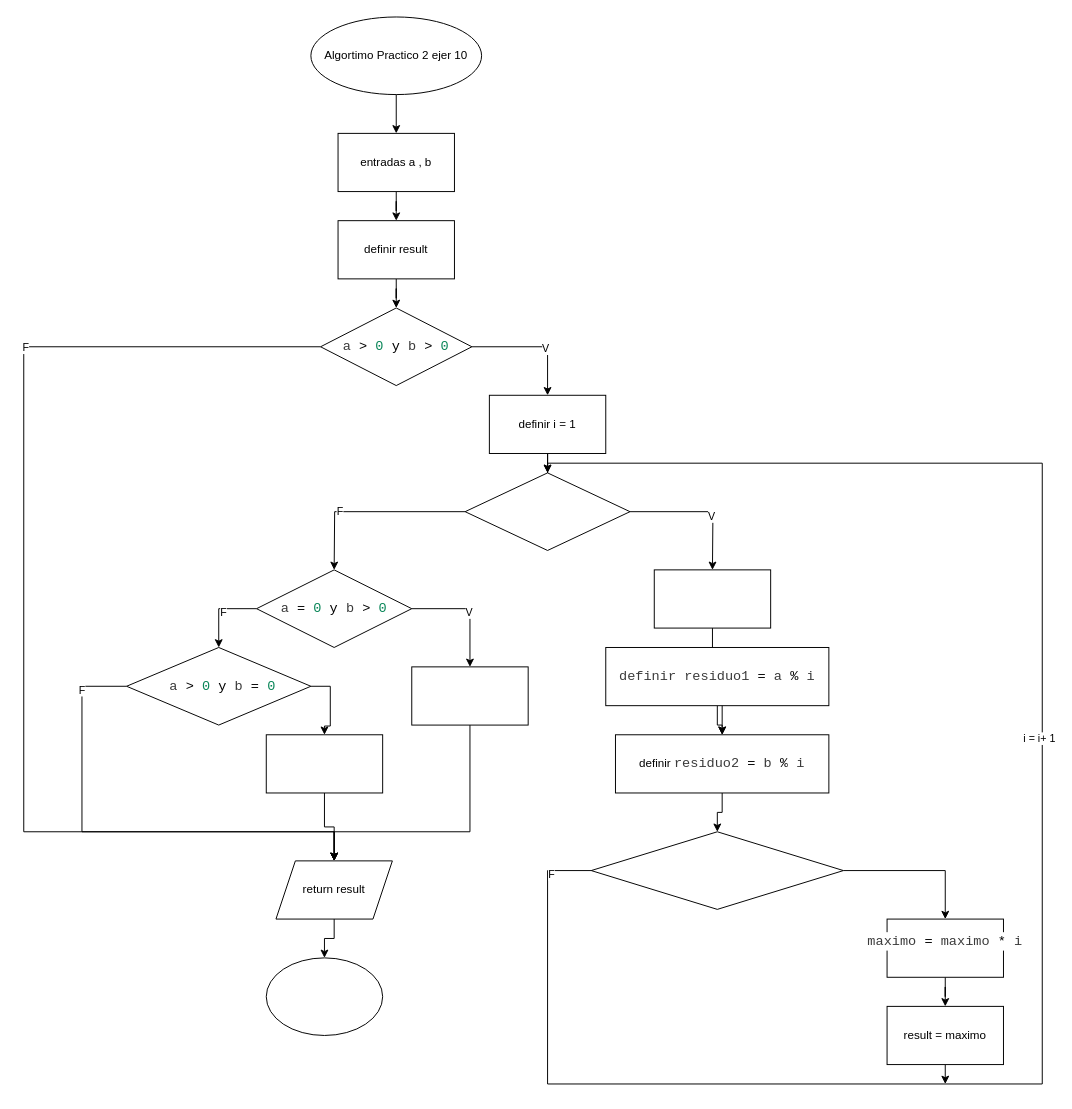
Some shapes in this 1072 by 1109 pixel diagram are drawn without their labels. The shapes that lost their labels are listed below. From the top down, each one's centre as x and y in pixels, then its label:
At point 547,511: "i <= a y i <= b".
At point 712,598: "definir maximo = 1".
At point 469,695: "result = b".
At point 324,763: "result = a".
At point 716,870: "residuo1 = 0 y residuo2 = 0".
At point 324,996: "FinAlgoritmo".
